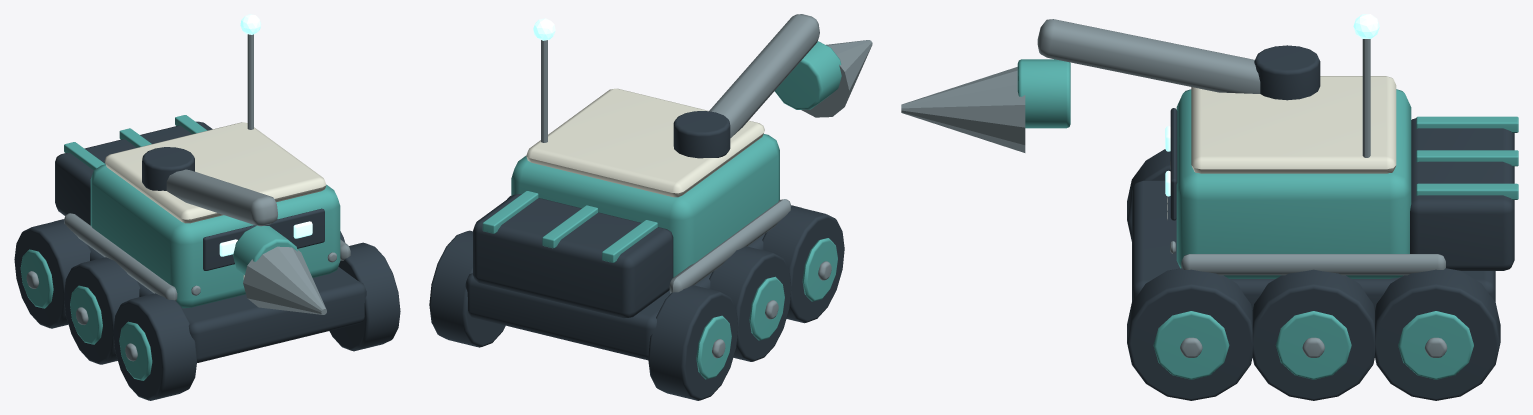
Rendered from surveyor.glb.
The picture shows the model from 3 angles, left to right: view 1: azimuth 30°, elevation 25°; view 2: azimuth 150°, elevation 25°; view 3: azimuth 270°, elevation 25°; orthographic projection. The views are drawn at different scales.
Visible parts, largest first — view 1: Suspension chassis, Armored body, Upper ceramic lid, Hub bolt, ToolRotor, Anim_Wheel_-0.88_0, Anim_Wheel_-0.88_0.74, Anim_Wheel_-0.88_-0.74, Optical sensor; view 2: Suspension chassis, Armored body, Upper ceramic lid, Hub bolt, ToolRotor, Anim_Wheel_-0.88_-0.74, Anim_Wheel_-0.88_0.74, Anim_Wheel_-0.88_0, Optical sensor; view 3: Suspension chassis, Armored body, Upper ceramic lid, Hub bolt, ToolRotor, Anim_Wheel_0.88_-0.74, Anim_Wheel_0.88_0, Anim_Wheel_0.88_0.74, Optical sensor.
Boxes of the visible parts, x1,y1,x2,y2 form: Suspension chassis: (14,121,400,400); Armored body: (64,115,340,308); Upper ceramic lid: (104,122,326,279); Hub bolt: (26,34,350,361); ToolRotor: (243,246,326,314); Anim_Wheel_-0.88_0: (70,285,102,344); Anim_Wheel_-0.88_0.74: (20,249,53,308); Anim_Wheel_-0.88_-0.74: (119,321,152,380); Optical sensor: (219,14,312,256); Suspension chassis: (429,111,844,400); Armored body: (482,41,841,277); Upper ceramic lid: (526,88,764,197); Hub bolt: (541,14,831,358); ToolRotor: (801,40,872,117); Anim_Wheel_-0.88_-0.74: (802,238,837,301); Anim_Wheel_-0.88_0.74: (696,315,731,379); Anim_Wheel_-0.88_0: (749,276,784,340); Optical sensor: (533,18,555,40); Suspension chassis: (1127,45,1514,400); Armored body: (1017,59,1518,278); Upper ceramic lid: (1167,76,1396,219); Hub bolt: (1037,19,1447,357); ToolRotor: (901,67,1025,152); Anim_Wheel_0.88_-0.74: (1153,311,1229,379); Anim_Wheel_0.88_0: (1275,311,1351,379); Anim_Wheel_0.88_0.74: (1398,311,1473,379); Optical sensor: (1165,14,1379,196).
Bounding box in the file's own units: 2.22 × 2.37 × 3.73.
